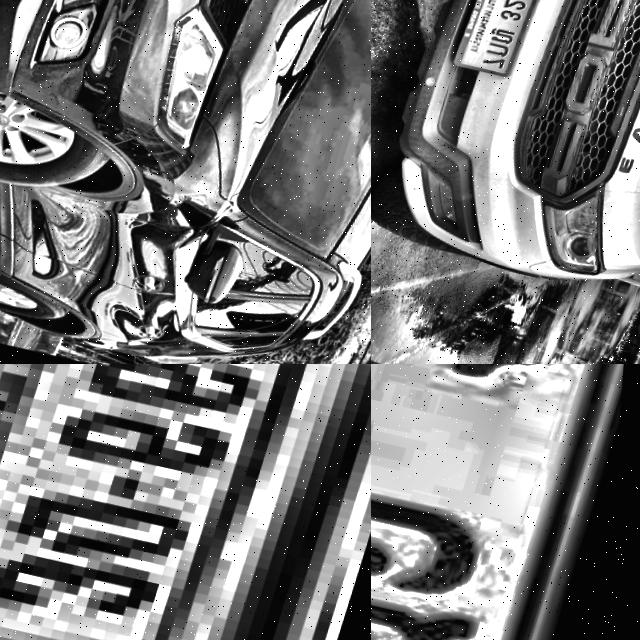license-plate: (0, 364, 371, 640), (371, 364, 640, 640), (456, 0, 547, 80)
